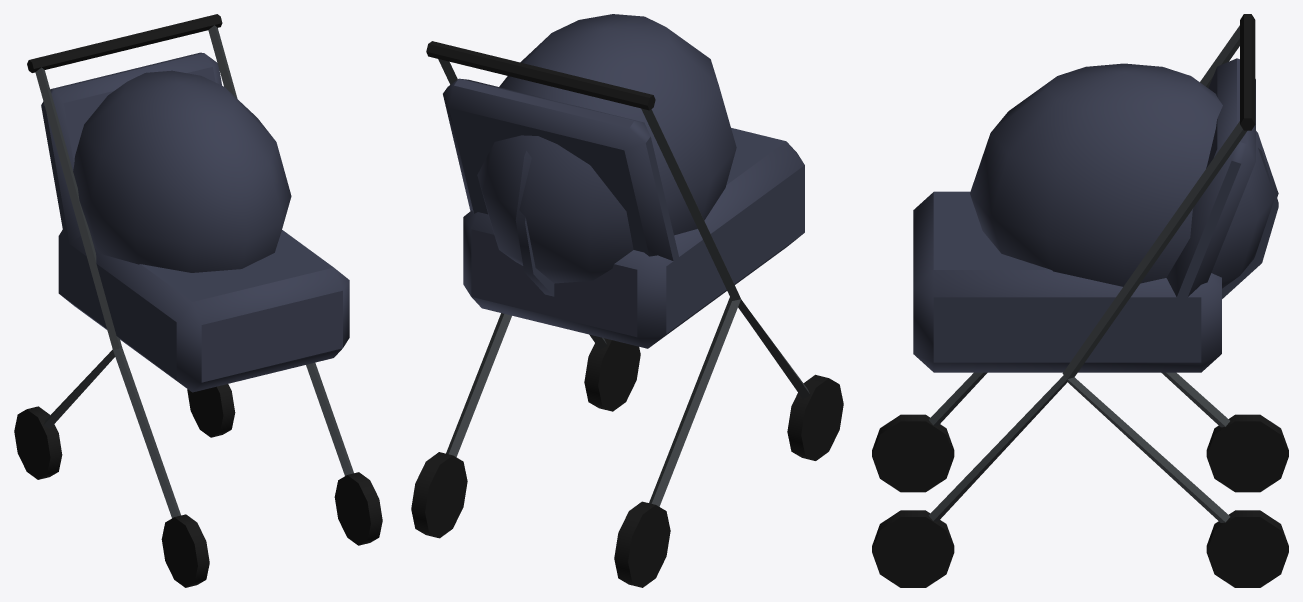
File: stroller.glb
3 views of the same model, side by side, from view 1: azimuth 30°, elevation 25°; view 2: azimuth 150°, elevation 25°; view 3: azimuth 270°, elevation 25° (orthographic). The views are drawn at different scales.
Parts seen in each view (by area): view 1: Stroller; view 2: Stroller; view 3: Stroller.
Boxes of the visible parts, x1,y1,x2,y2 form: Stroller: (14, 14, 382, 587); Stroller: (411, 14, 843, 587); Stroller: (872, 14, 1288, 587).
Bounding box in the file's own units: 0.48 × 1.01 × 0.81.
